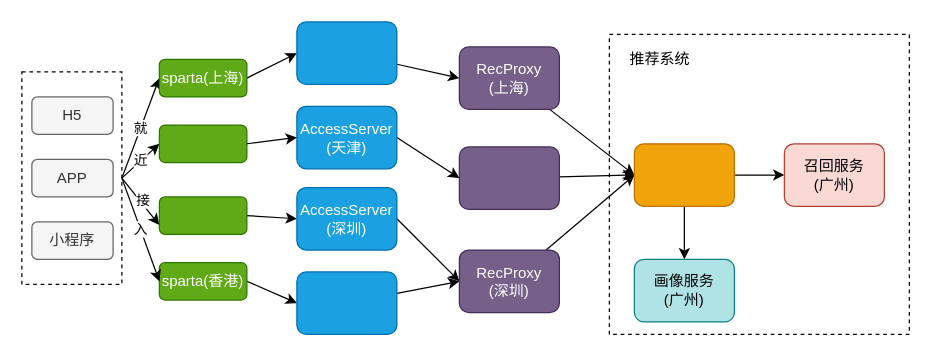
Image size: 931x356. Some labels were removed from this diagram. The box of each missing label's shape, as (x1, y1, x2, y2) in pixels:
AccessServer (上海): (296, 21, 397, 84)
AccessServer (香港): (296, 271, 397, 334)
RecProxy (天津): (458, 146, 559, 209)
sparta(天津): (158, 124, 247, 162)
sparta(深圳): (158, 196, 247, 234)
推荐中枢服务 (广州): (633, 142, 734, 206)
